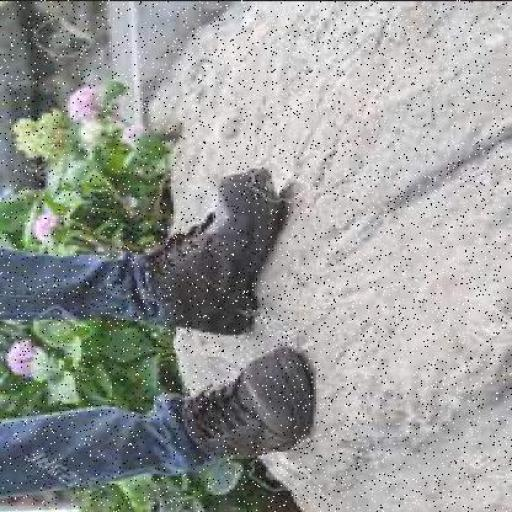safety_shoe: (158, 176, 285, 330), (182, 344, 318, 457)
